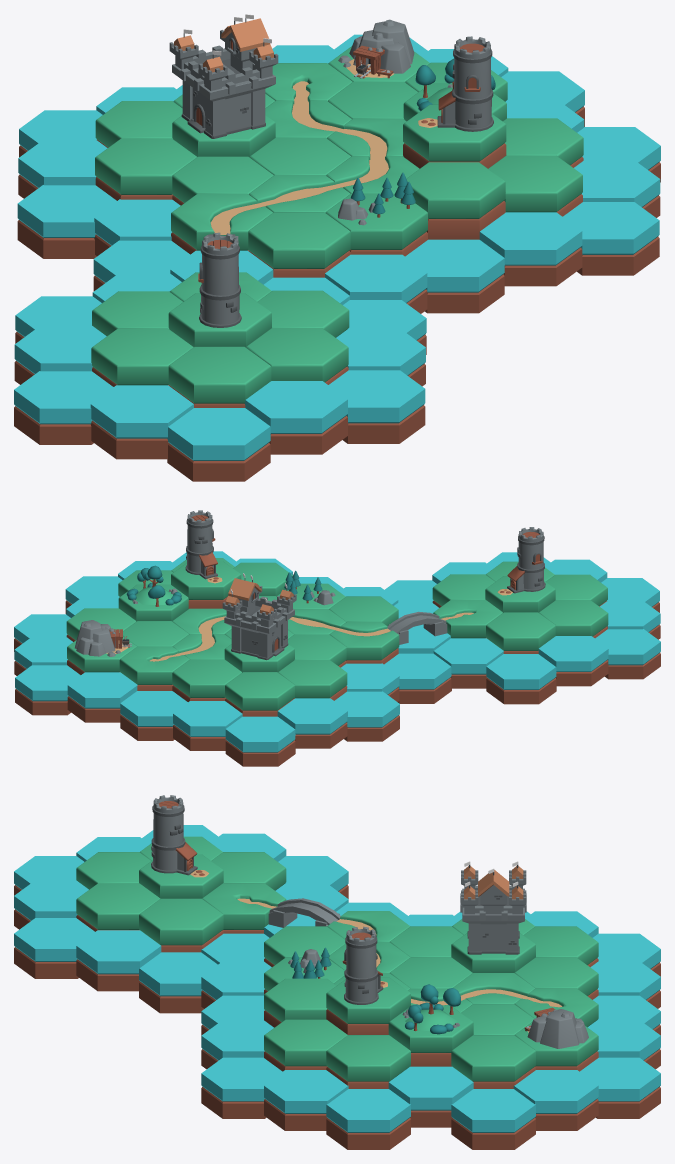
The model's file is islands.glb.
3 renders of one model, top to bottom at view 1: azimuth 30°, elevation 25°; view 2: azimuth 150°, elevation 25°; view 3: azimuth 270°, elevation 25°, orthographic. The views are drawn at different scales.
Parts seen in each view (by area): view 1: castle_68_StaticMeshComponent0, hex_water_detail26_StaticMeshComponent0, hex_water_detail18_StaticMeshComponent0, hex_forest_detail7_StaticMeshComponent0, hex_water_detail27_StaticMeshComponent0, hex_water_detail25_StaticMeshComponent0, hex_water_detail17_StaticMeshComponent0, hex_water_detail11_StaticMeshComponent0, hex_water_detail24_StaticMeshComponent0, hex_water_detail19_StaticMeshComponent0, hex_water_detail28_StaticMeshComponent0, hex_forest_detail9_StaticMeshComponent0 (+49 smaller); view 2: castle_68_StaticMeshComponent0, hex_water_detail22_StaticMeshComponent0, hex_water_detail9_StaticMeshComponent0, hex_water_detail6_StaticMeshComponent0, hex_water_detail10_StaticMeshComponent0, hex_water_detail23_StaticMeshComponent0, hex_water_detail8_StaticMeshComponent0, hex_water_detail13_StaticMeshComponent0, hex_water_detail5_StaticMeshComponent0, hex_water_detail24_StaticMeshComponent0, hex_water_detail7_StaticMeshComponent0, hex_water_detail11_StaticMeshComponent0 (+47 smaller); view 3: castle_68_StaticMeshComponent0, hex_water_detail_43_StaticMeshComponent0, hex_water_detail3_StaticMeshComponent0, hex_water_detail29_StaticMeshComponent0, hex_water_detail4_StaticMeshComponent0, hex_water_detail20_StaticMeshComponent0, hex_water_detail19_StaticMeshComponent0, hex_water_detail5_StaticMeshComponent0, hex_water_detail28_StaticMeshComponent0, hex_water_detail30_StaticMeshComponent0, hex_sand_detail2_StaticMeshComponent0, hex_forest_detail5_StaticMeshComponent0 (+48 smaller).
Part boxes in pixels (<box>): castle_68_StaticMeshComponent0: <box>169,14,278,138</box>; hex_water_detail26_StaticMeshComponent0: <box>167,408,270,481</box>; hex_water_detail18_StaticMeshComponent0: <box>479,212,582,286</box>; hex_forest_detail7_StaticMeshComponent0: <box>406,162,505,239</box>; hex_water_detail27_StaticMeshComponent0: <box>244,381,347,454</box>; hex_water_detail25_StaticMeshComponent0: <box>90,385,193,459</box>; hex_water_detail17_StaticMeshComponent0: <box>405,239,504,313</box>; hex_water_detail11_StaticMeshComponent0: <box>17,185,116,258</box>; hex_water_detail24_StaticMeshComponent0: <box>14,371,113,444</box>; hex_water_detail19_StaticMeshComponent0: <box>563,202,659,275</box>; hex_water_detail28_StaticMeshComponent0: <box>328,370,425,443</box>; hex_forest_detail9_StaticMeshComponent0: <box>248,212,350,277</box>; castle_68_StaticMeshComponent0: <box>222,573,296,660</box>; hex_water_detail22_StaticMeshComponent0: <box>486,654,556,704</box>; hex_water_detail9_StaticMeshComponent0: <box>225,716,295,766</box>; hex_water_detail6_StaticMeshComponent0: <box>67,672,137,722</box>; hex_water_detail10_StaticMeshComponent0: <box>277,698,347,748</box>; hex_water_detail23_StaticMeshComponent0: <box>538,636,608,686</box>; hex_water_detail8_StaticMeshComponent0: <box>173,701,242,750</box>; hex_water_detail13_StaticMeshComponent0: <box>384,653,451,703</box>; hex_water_detail5_StaticMeshComponent0: <box>15,665,80,715</box>; hex_water_detail24_StaticMeshComponent0: <box>595,629,660,679</box>; hex_water_detail7_StaticMeshComponent0: <box>120,691,187,740</box>; hex_water_detail11_StaticMeshComponent0: <box>334,691,399,741</box>; castle_68_StaticMeshComponent0: <box>460,861,526,954</box>; hex_water_detail_43_StaticMeshComponent0: <box>326,1089,410,1149</box>; hex_water_detail3_StaticMeshComponent0: <box>451,1089,535,1149</box>; hex_water_detail29_StaticMeshComponent0: <box>76,930,161,991</box>; hex_water_detail4_StaticMeshComponent0: <box>513,1070,598,1130</box>; hex_water_detail20_StaticMeshComponent0: <box>264,1070,348,1130</box>; hex_water_detail19_StaticMeshComponent0: <box>201,1057,282,1118</box>; hex_water_detail5_StaticMeshComponent0: <box>580,1057,660,1118</box>; hex_water_detail28_StaticMeshComponent0: <box>14,918,94,978</box>; hex_water_detail30_StaticMeshComponent0: <box>139,952,217,1013</box>; hex_sand_detail2_StaticMeshComponent0: <box>139,898,223,952</box>; hex_forest_detail5_StaticMeshComponent0: <box>326,1035,410,1088</box>.
Size of the model in its own units: 190 by 46.07 by 176.
